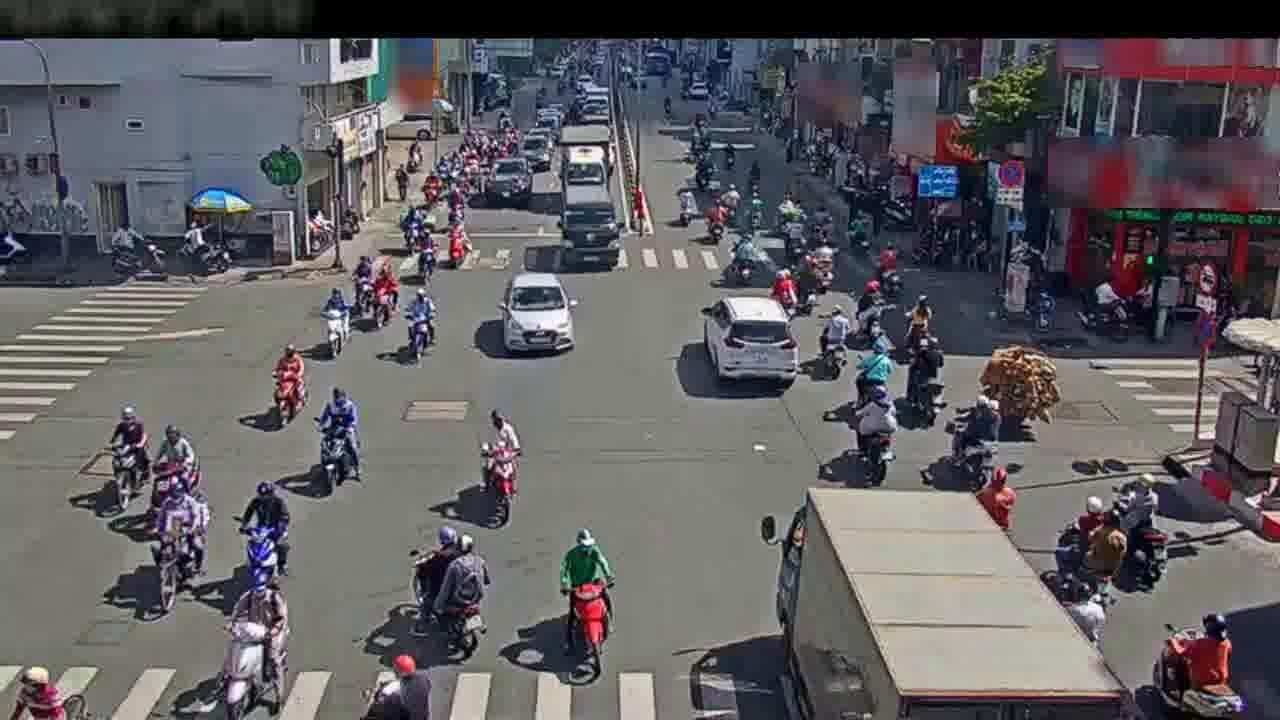14: (563, 183, 619, 267)
8: (816, 503, 1052, 720)
container: (702, 292, 800, 386), (498, 267, 573, 359), (493, 158, 534, 206)
motorbike: (406, 526, 487, 660), (221, 574, 287, 716), (1152, 611, 1238, 716), (558, 531, 611, 675), (159, 467, 209, 602), (1059, 498, 1120, 603), (940, 393, 1004, 493), (237, 476, 290, 594), (144, 424, 203, 522), (1118, 476, 1167, 592), (357, 653, 434, 720), (102, 403, 151, 508), (314, 389, 358, 498), (479, 407, 521, 521), (987, 342, 1039, 428), (8, 659, 81, 720), (852, 383, 894, 488), (977, 446, 1017, 541), (269, 340, 306, 432), (853, 333, 892, 420), (908, 336, 943, 430), (399, 283, 436, 368), (894, 291, 935, 361), (852, 280, 892, 350), (365, 263, 400, 341), (1061, 580, 1105, 642), (816, 304, 848, 387), (321, 284, 349, 368), (772, 210, 813, 261), (874, 245, 908, 303), (347, 249, 376, 316), (440, 212, 470, 276), (411, 219, 438, 286), (700, 197, 727, 253), (770, 270, 800, 315), (808, 237, 833, 290), (731, 242, 758, 291), (741, 187, 766, 239), (674, 180, 698, 233)
